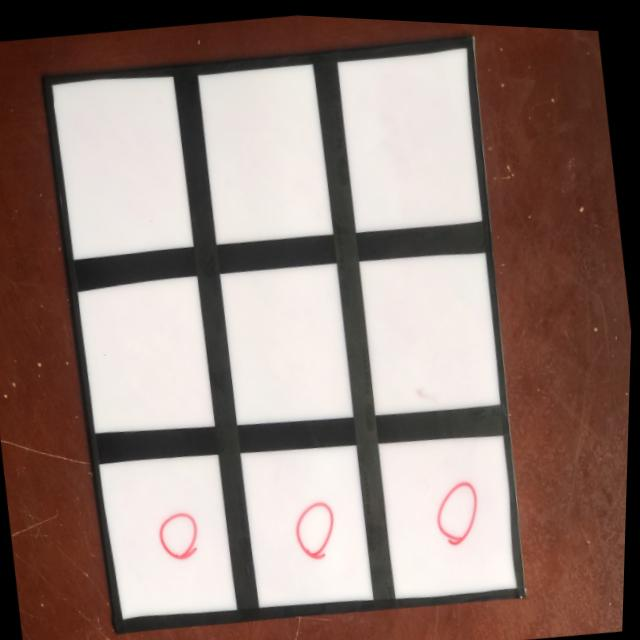null: (48, 65, 201, 262), (335, 41, 486, 231), (194, 56, 338, 248), (357, 240, 506, 416), (217, 253, 358, 433), (76, 272, 223, 441)
o: (431, 468, 491, 546), (290, 487, 346, 561), (153, 501, 210, 568)
table: (43, 29, 530, 636)
